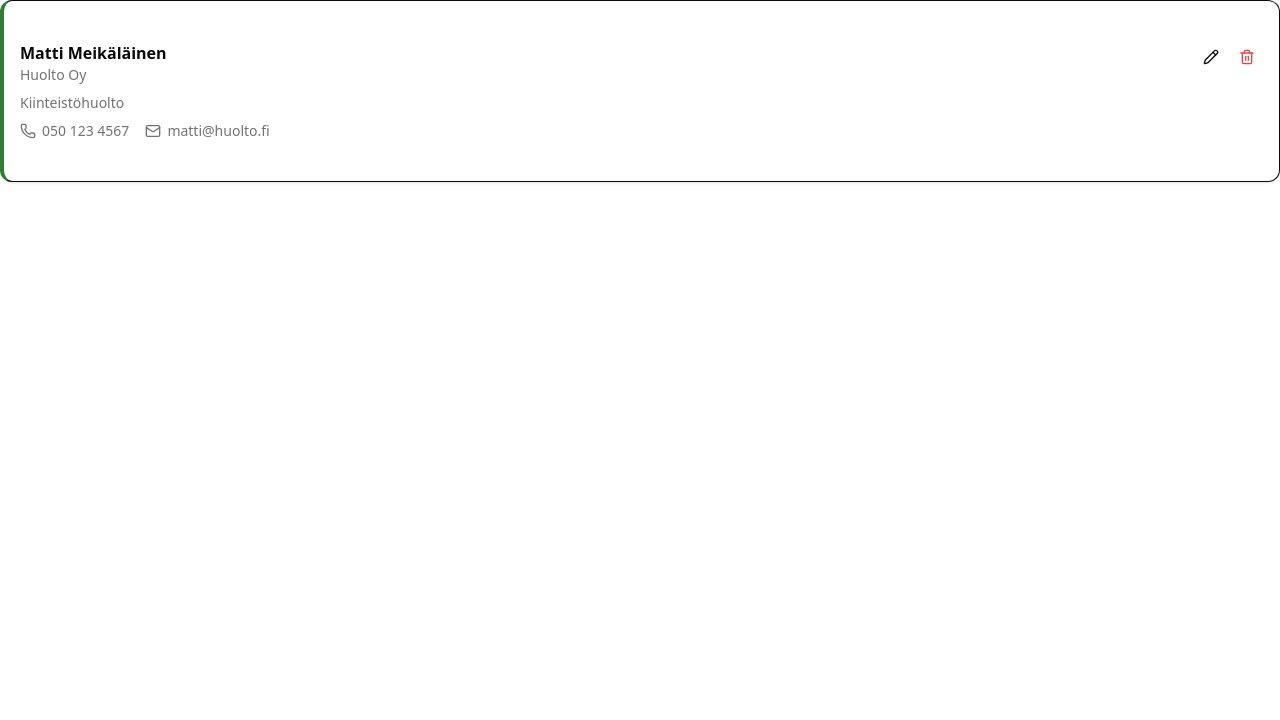
it: ContactCard › opens edit dialog when edit button clicked
The image size is (1280, 720).
Click the button named "Muokkaa" at (1211, 57), box left=1195, top=41, right=1227, bottom=73
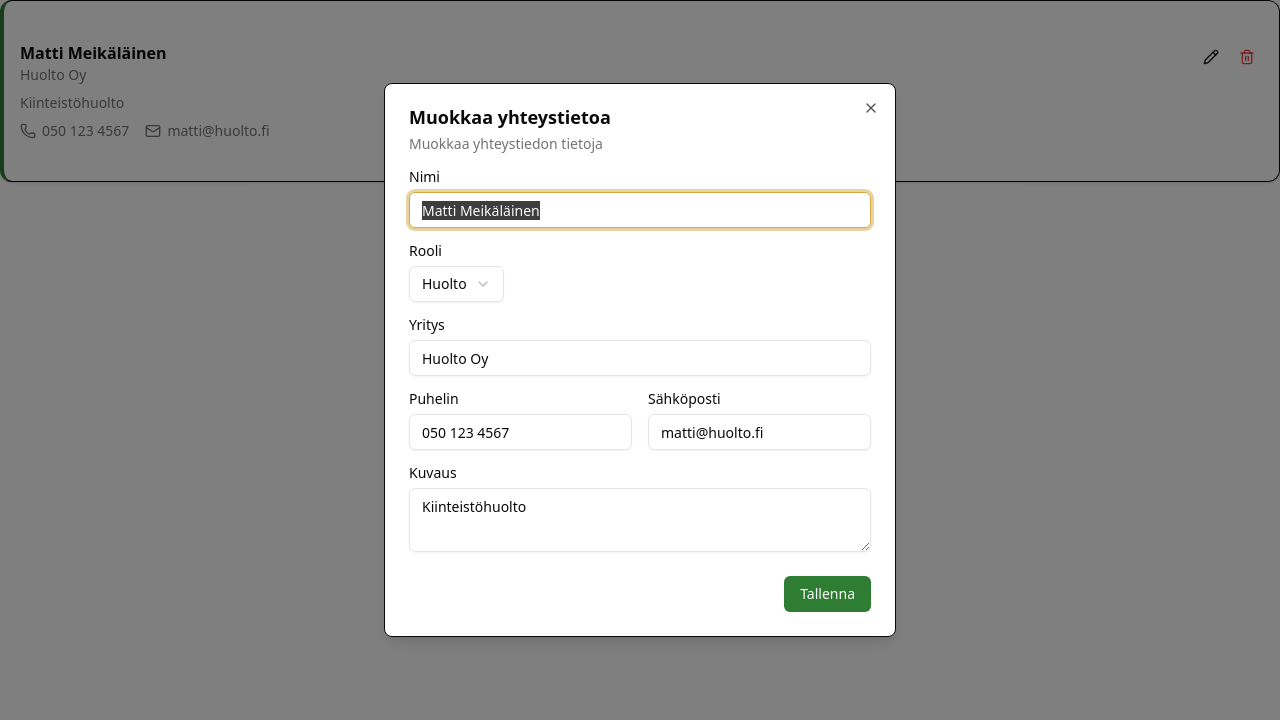
Expected: the heading "Muokkaa yhteystietoa" is shown, left=409, top=105, right=611, bottom=129
Expected: the field labelled "Nimi" holds "Matti Meikäläinen", left=409, top=192, right=871, bottom=228
